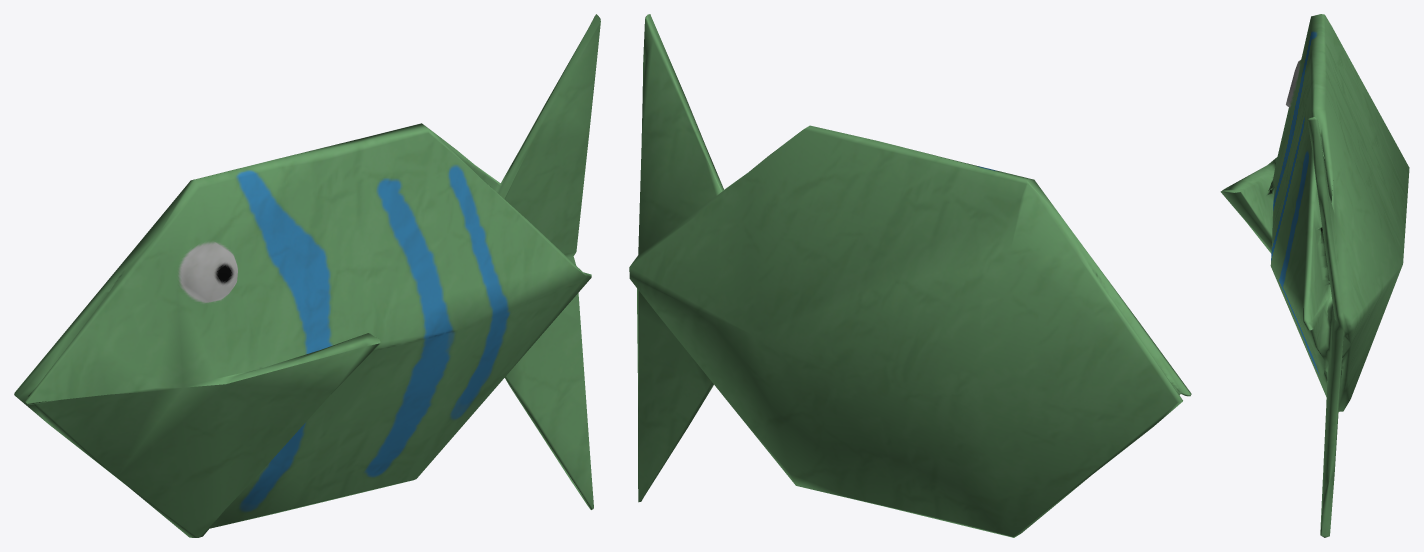
File: fish_FDRemesh_LOD2.fbx
3 renders of one model, left to right at view 1: azimuth 30°, elevation 25°; view 2: azimuth 150°, elevation 25°; view 3: azimuth 270°, elevation 25°, orthographic. The views are drawn at different scales.
Parts seen in each view (by area): view 1: Simplygon_Proxy_45aa78b7-8143-48a1-aef2-a64871745d26; view 2: Simplygon_Proxy_45aa78b7-8143-48a1-aef2-a64871745d26; view 3: Simplygon_Proxy_45aa78b7-8143-48a1-aef2-a64871745d26.
Boxes of the visible parts, x1,y1,x2,y2 form: Simplygon_Proxy_45aa78b7-8143-48a1-aef2-a64871745d26: (14, 14, 600, 537); Simplygon_Proxy_45aa78b7-8143-48a1-aef2-a64871745d26: (629, 14, 1191, 537); Simplygon_Proxy_45aa78b7-8143-48a1-aef2-a64871745d26: (1220, 14, 1409, 537).
Bounding box in the file's own units: 19.99 × 16.76 × 6.82.
Materials: 1 (1 with a texture image).
